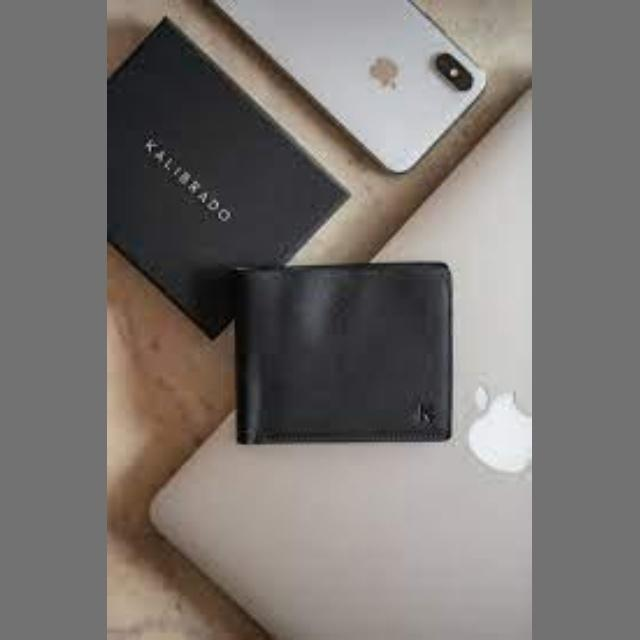Wallet: (221, 256, 533, 476)
